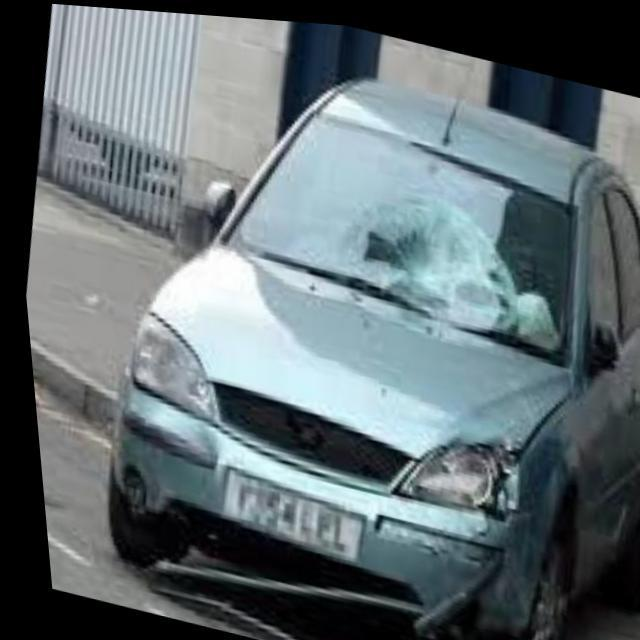dislocated part: (127, 486, 427, 640)
glass shatter: (292, 185, 523, 337)
lamp broken: (381, 427, 514, 522)
